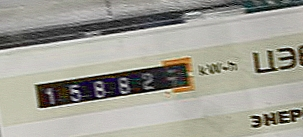1: (41, 86, 55, 107)
2: (139, 72, 153, 92)
5: (66, 83, 80, 104)
7: (165, 75, 177, 91)
8: (90, 79, 105, 101), (115, 76, 130, 98)
screen: (24, 51, 203, 119)
